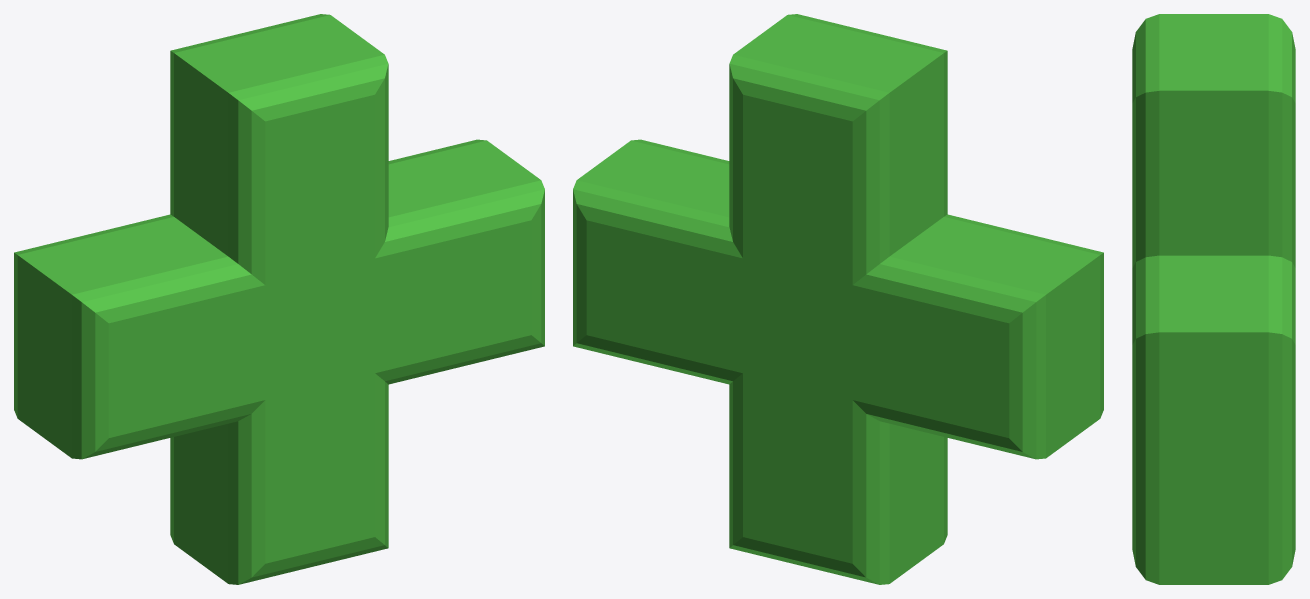
File: Plus.fbx
The picture shows the model from 3 angles, left to right: view 1: azimuth 30°, elevation 25°; view 2: azimuth 150°, elevation 25°; view 3: azimuth 270°, elevation 25°; orthographic projection.
Visible parts, largest first — view 1: Plus; view 2: Plus; view 3: Plus.
Part boxes in pixels (x1,y1,x2,y2): Plus: (14,14,544,584); Plus: (573,14,1103,584); Plus: (1132,14,1295,584).
Size of the model in its own units: 12 by 12 by 3.6.
